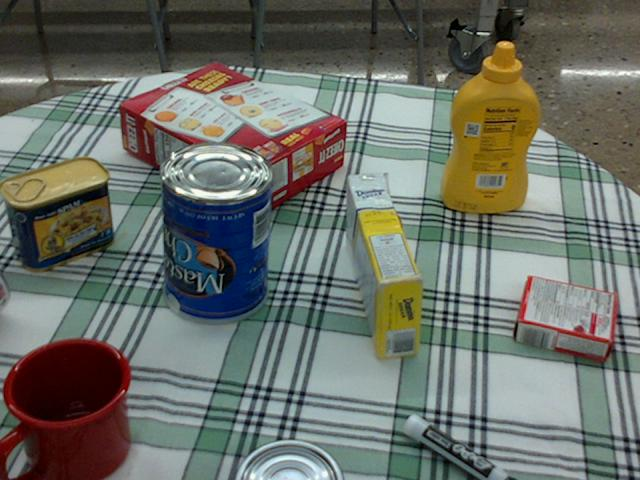cracker_box: (118, 63, 344, 215)
gelatin_box: (513, 276, 615, 362)
large_marker: (403, 414, 516, 479)
master_chef_can: (156, 141, 271, 324)
mug: (0, 335, 126, 479)
mustard_bottle: (439, 41, 539, 211)
potted_meat_can: (0, 156, 113, 271)
sugar_box: (345, 174, 422, 357)
tomato_soup_can: (0, 273, 7, 310)
tuna_fish_can: (231, 441, 341, 479)
